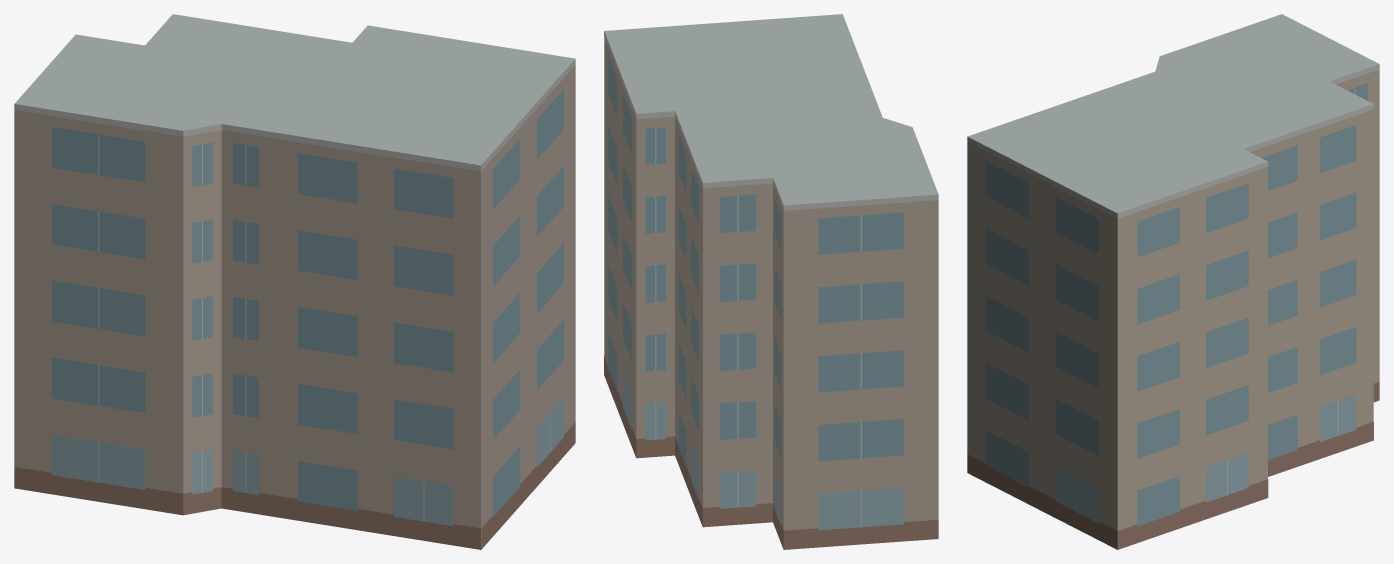
The model's file is survey-upis-32660066.glb.
The picture shows the model from 3 angles, left to right: view 1: azimuth 30°, elevation 25°; view 2: azimuth 150°, elevation 25°; view 3: azimuth 270°, elevation 25°; orthographic projection. The views are drawn at different scales.
Parts seen in each view (by area): view 1: survey-upis-32660066.tmp; view 2: survey-upis-32660066.tmp; view 3: survey-upis-32660066.tmp.
Part boxes in pixels (x1=…): survey-upis-32660066.tmp: x1=14, y1=14, x2=575, y2=549; survey-upis-32660066.tmp: x1=604, y1=14, x2=938, y2=549; survey-upis-32660066.tmp: x1=967, y1=14, x2=1379, y2=549.
Size of the model in its own units: 19.73 by 15.5 by 17.23.
